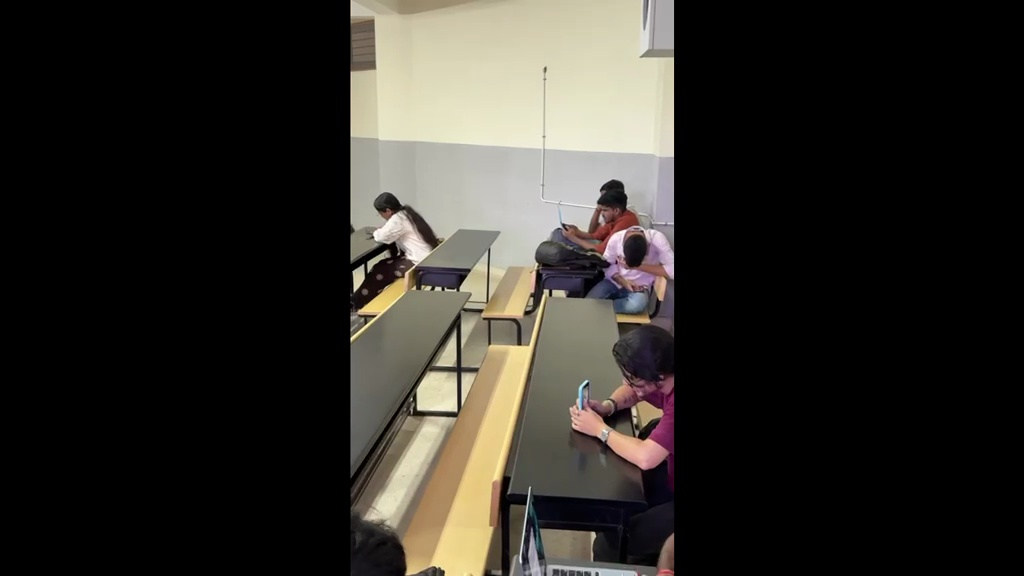phone: (574, 379, 592, 413)
